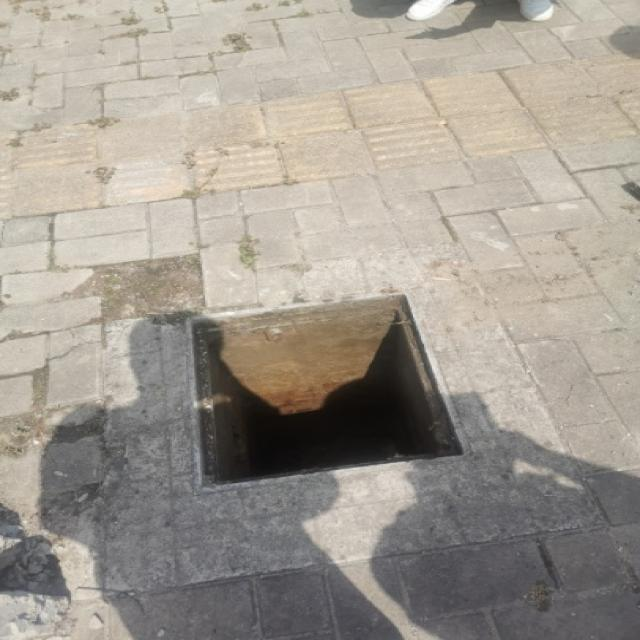Uncovered: (117, 276, 530, 519)
